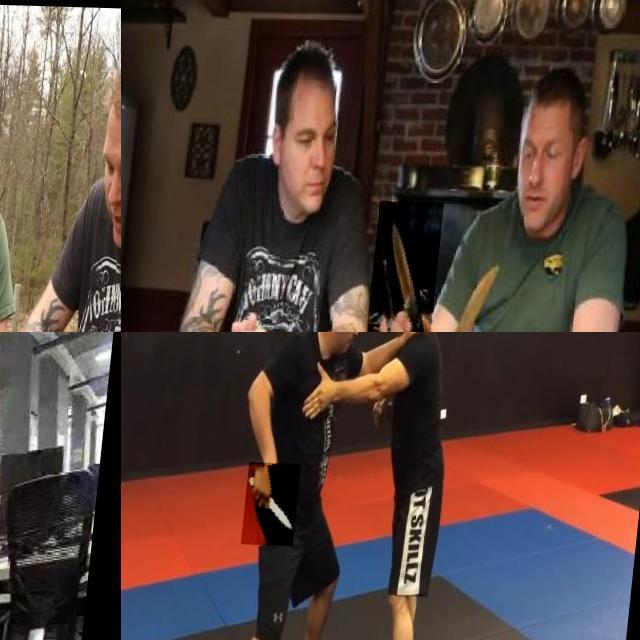-: (372, 199, 449, 332), (435, 252, 516, 332), (250, 461, 309, 544)
